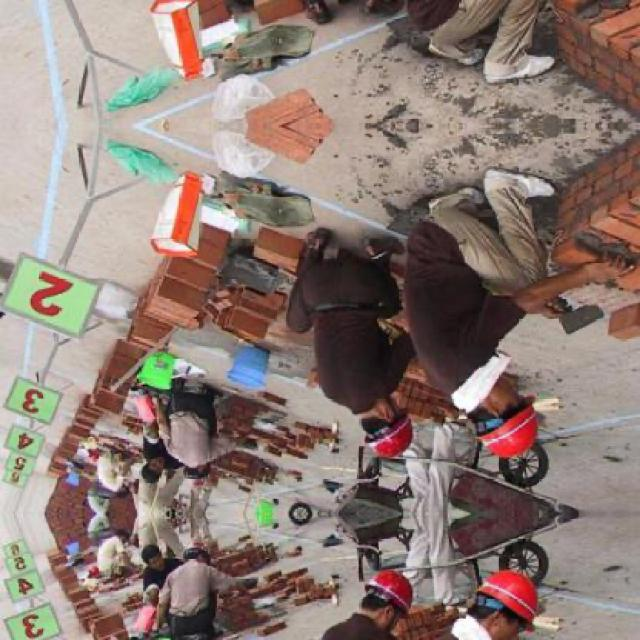con casco: (448, 361, 566, 474), (359, 390, 447, 486)
sin casco: (162, 454, 232, 501), (133, 454, 182, 490)
